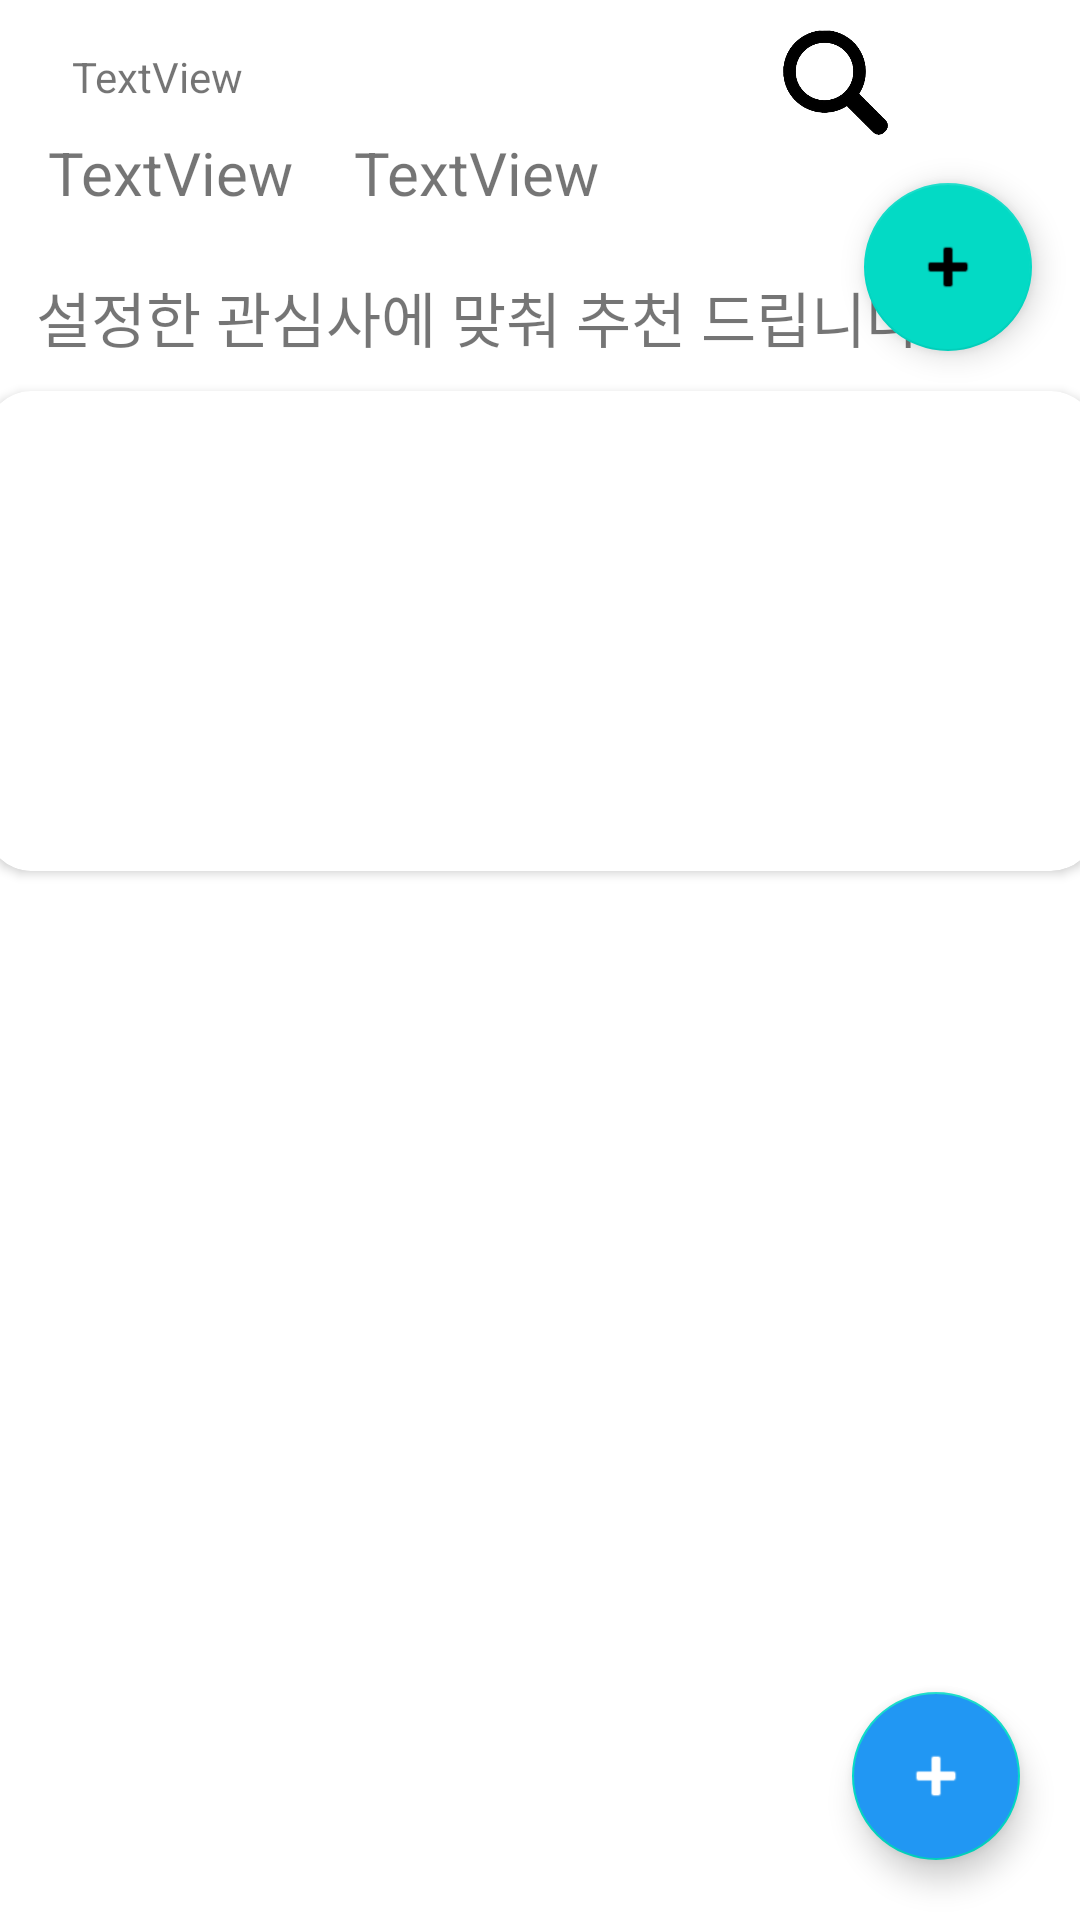

Icon bounding boxes for this 1080 x 1920 phone screenshot, format (x1, y1, x2, y2):
search: (783, 30, 888, 135)
